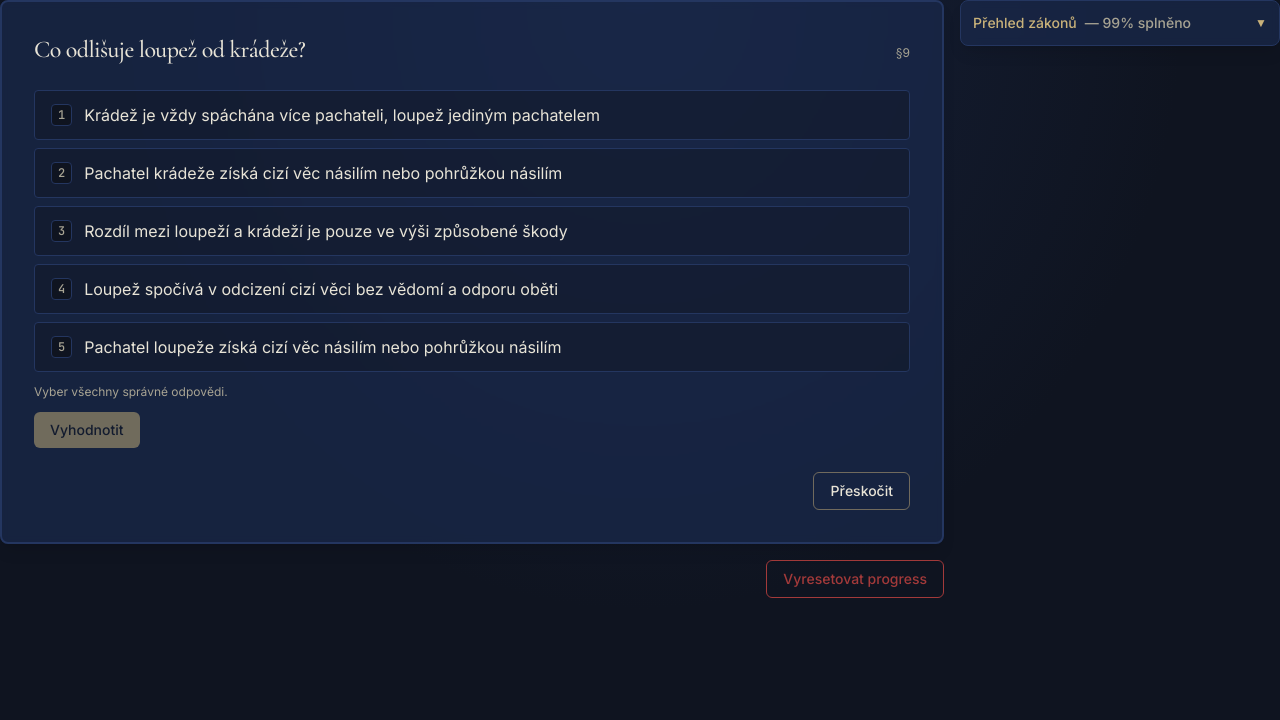
Test: <LawPage /> — choice questions › reveals wrong feedback when an incorrect option is submitted
Check: the heading "Co odlišuje loupež od krádeže?" is shown, box x1=34 y1=34 x2=305 y2=66
# Select the first wrong option
Click the button with test id "law-choice-option-": [472, 173] box x1=34 y1=148 x2=910 y2=198
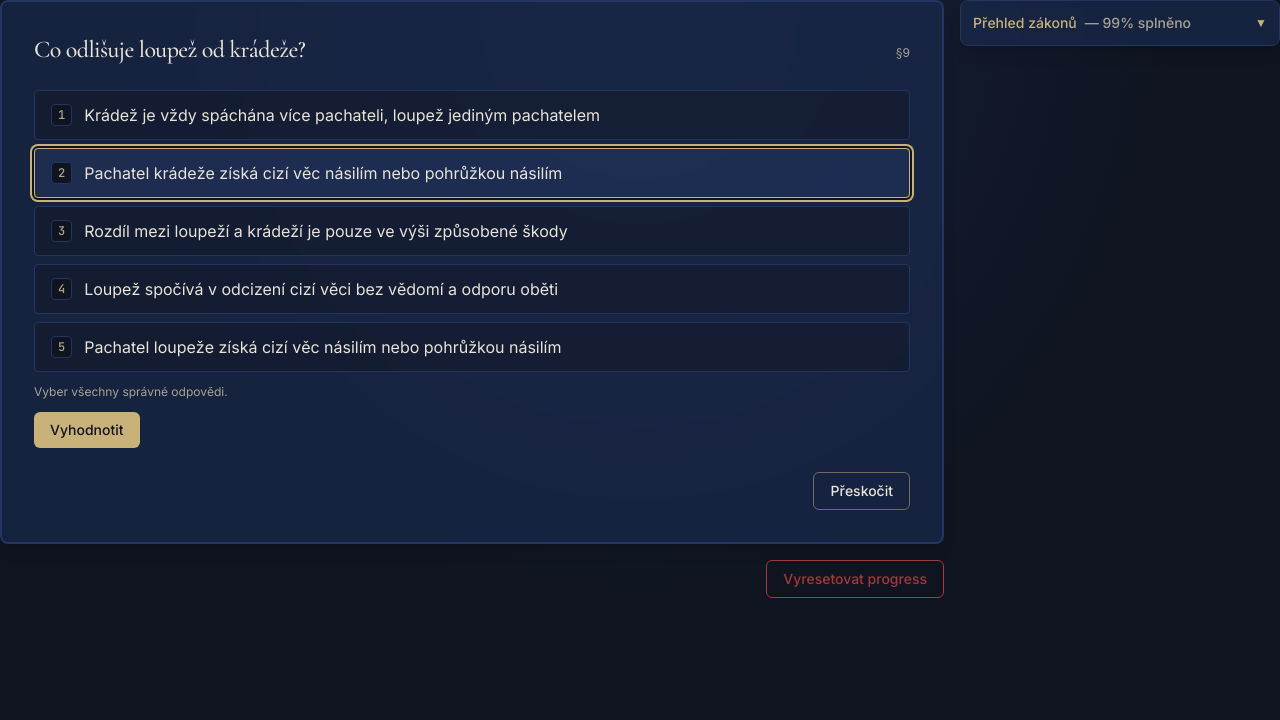
Click the button with test id "law-choice-submit": [87, 430] box x1=34 y1=412 x2=140 y2=448
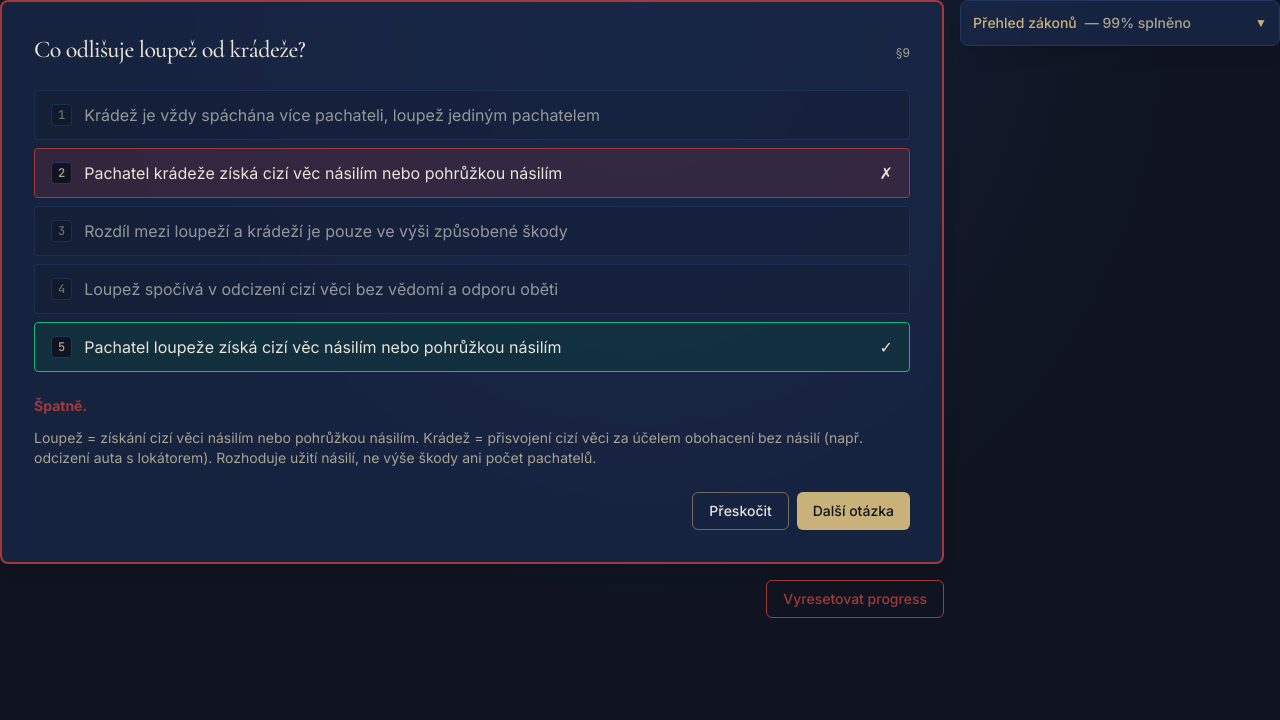
Check: the element with test id "law-reveal-wrong" is shown, box x1=34 y1=397 x2=87 y2=414
Check: the button with test id "law-next" is shown, box x1=797 y1=492 x2=910 y2=530
